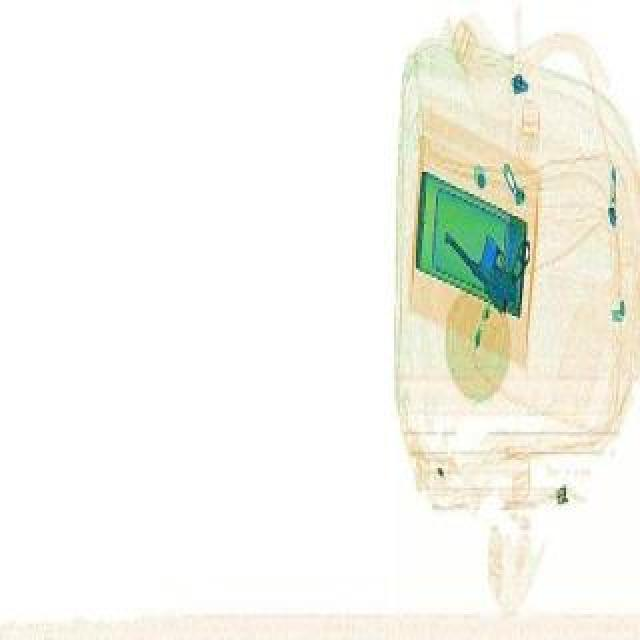gun: (434, 196, 558, 312)
